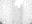person: (14, 1, 22, 7)
